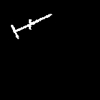double_crochet: (11, 14, 51, 38)
